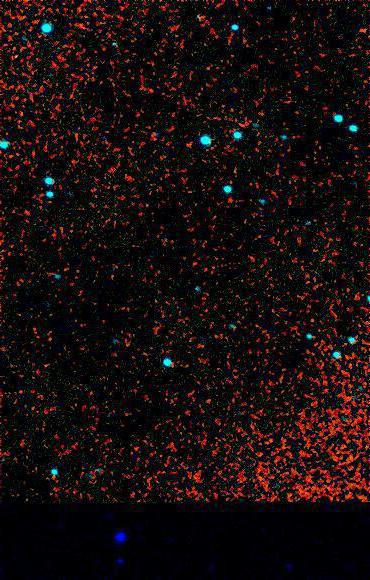star: (351, 12, 370, 42)
